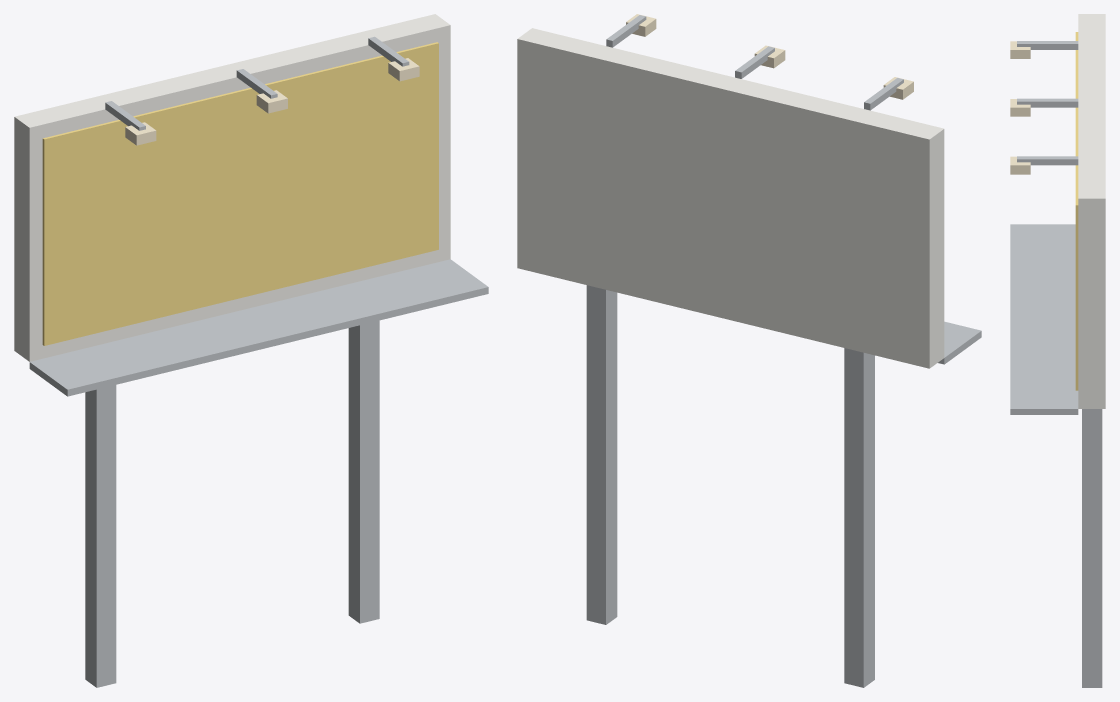
File: billboard.glb
The picture shows the model from 3 angles, left to right: view 1: azimuth 30°, elevation 25°; view 2: azimuth 150°, elevation 25°; view 3: azimuth 270°, elevation 25°; orthographic projection. The views are drawn at different scales.
Parts seen in each view (by area): view 1: billboard; view 2: billboard; view 3: billboard.
Boxes of the visible parts, <box> form: billboard: <box>14,14,488,687</box>; billboard: <box>517,14,981,687</box>; billboard: <box>1010,14,1105,687</box>.
Size of the model in its own units: 6.4 by 8.5 by 1.4.
